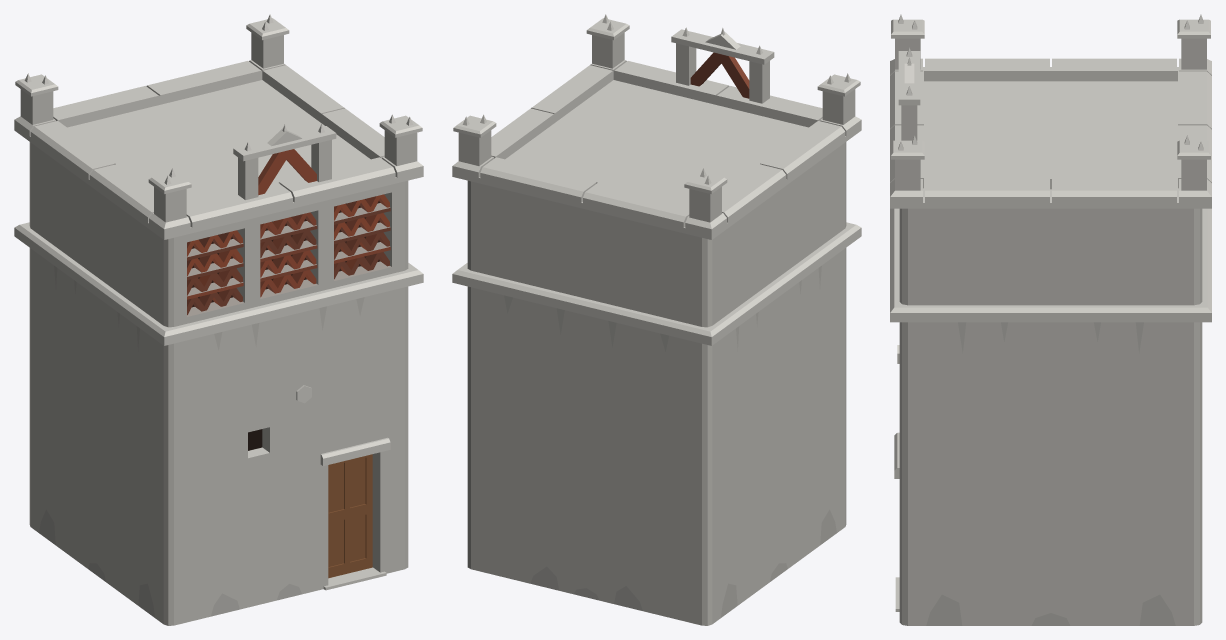
Rendered from dovecote-tower-db7d30.glb.
3 renders of one model, left to right at view 1: azimuth 30°, elevation 25°; view 2: azimuth 150°, elevation 25°; view 3: azimuth 270°, elevation 25°, orthographic. The views are drawn at different scales.
Parts seen in each view (by area): view 1: dovecote-body, door-leaf; view 2: dovecote-body; view 3: dovecote-body.
Boxes of the visible parts, x1=… form: dovecote-body: x1=14, y1=14, x2=423, y2=625; door-leaf: x1=328, y1=454, x2=372, y2=578; dovecote-body: x1=452, y1=14, x2=861, y2=625; dovecote-body: x1=890, y1=14, x2=1211, y2=625.
Size of the model in its own units: 4 by 6.93 by 4.
